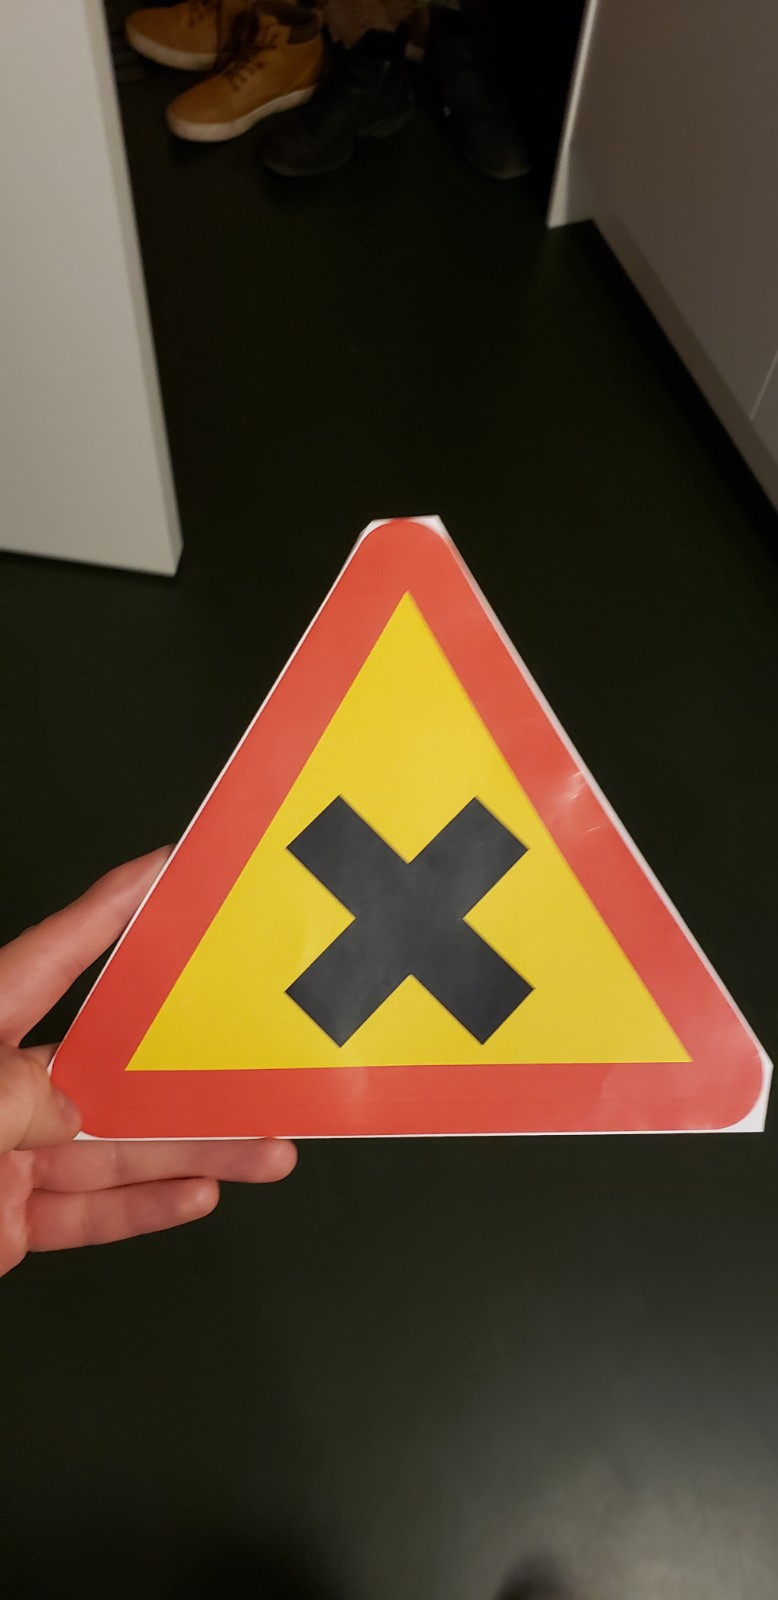junction: (71, 482, 778, 1238)
